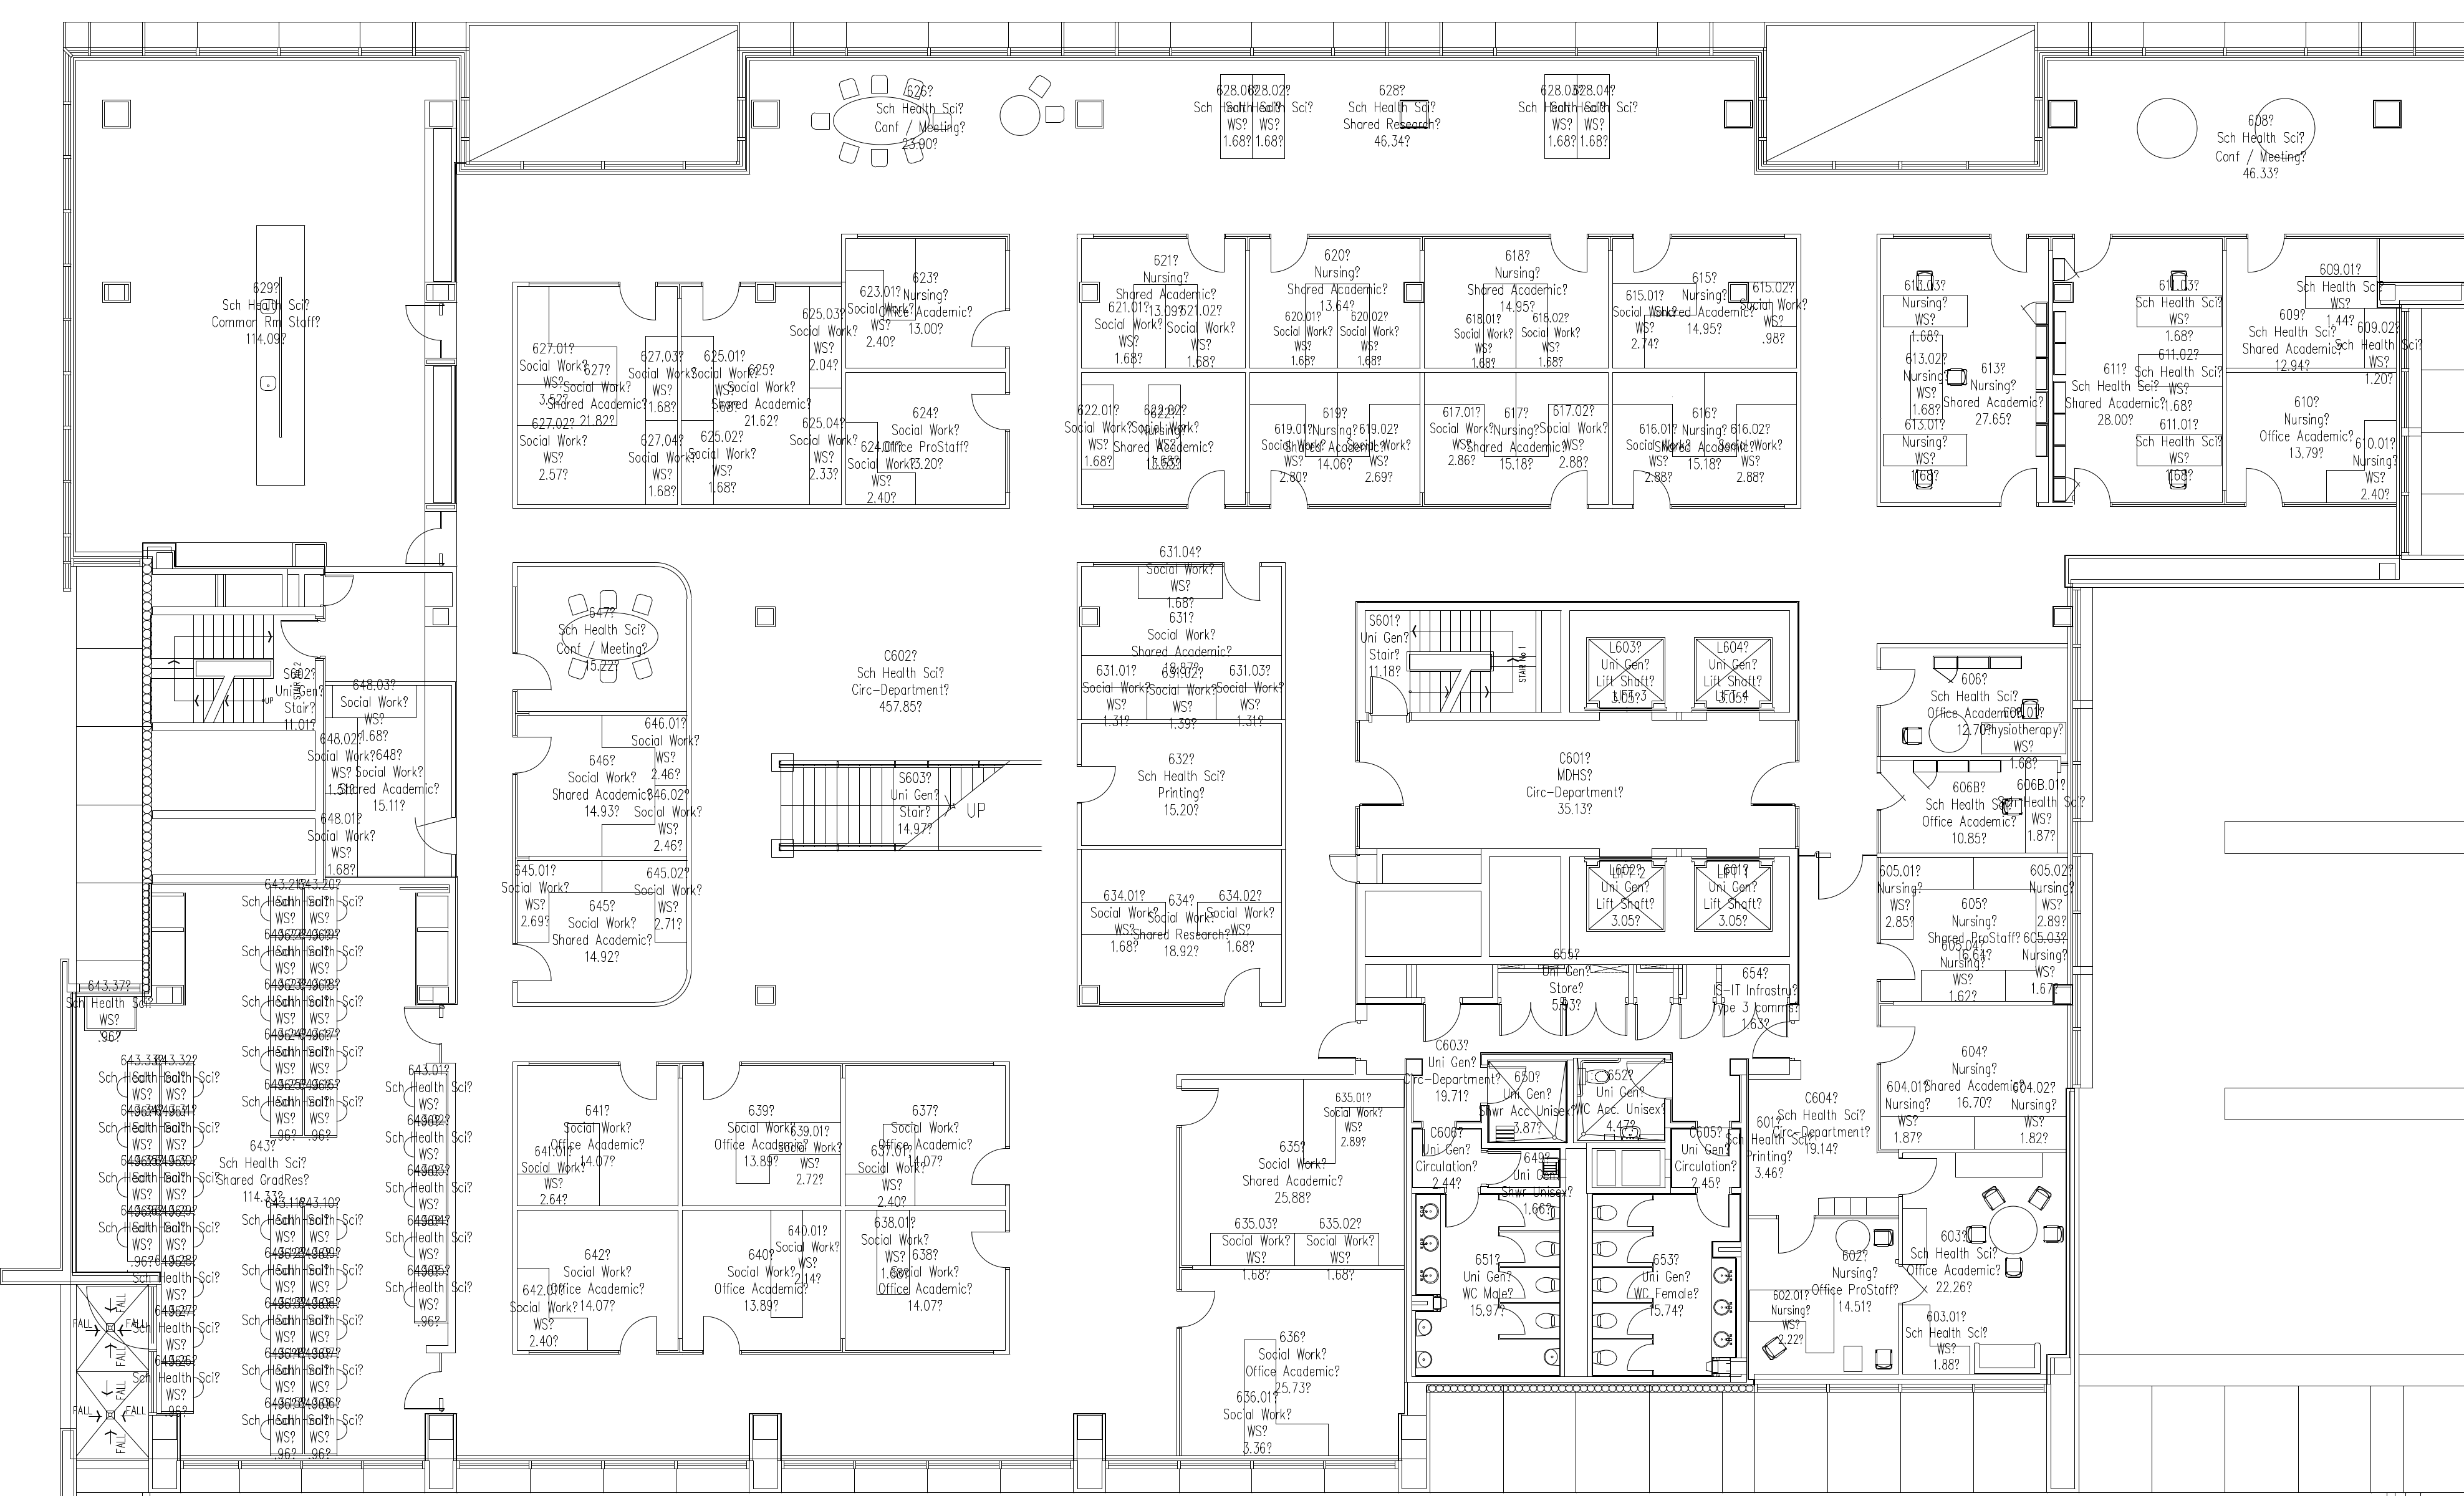text: (99, 1051, 225, 1419), (679, 292, 855, 496), (236, 1195, 371, 1459), (243, 873, 363, 1146), (517, 331, 683, 509), (380, 1067, 479, 1329), (2130, 271, 2226, 489), (2295, 241, 2424, 392), (1077, 658, 1299, 736), (1058, 392, 1218, 488), (1866, 1074, 2059, 1151), (1419, 396, 1607, 475), (1091, 287, 1237, 375), (1216, 1207, 1382, 1285), (1255, 410, 1412, 489), (1616, 414, 1785, 486), (1262, 290, 1408, 371), (1896, 276, 1950, 491), (1181, 77, 1313, 160), (1507, 77, 1646, 155), (1441, 301, 1593, 371), (206, 273, 329, 354), (706, 1239, 818, 1324), (1910, 764, 2022, 848), (1522, 737, 1626, 827), (2061, 348, 2163, 436), (2205, 109, 2318, 188), (1341, 79, 1452, 157), (1239, 1135, 1346, 1214), (850, 641, 954, 722), (549, 361, 644, 449), (1243, 1322, 1345, 1403), (209, 1133, 317, 1209), (554, 600, 655, 681), (866, 79, 970, 157), (2262, 389, 2358, 472), (2249, 297, 2341, 384), (544, 750, 651, 822), (1727, 269, 1818, 354), (1806, 1241, 1899, 1324), (1130, 889, 1234, 963), (549, 896, 655, 968), (1660, 262, 1755, 341), (878, 400, 972, 479), (1399, 1035, 1501, 1107), (2019, 859, 2070, 1003), (880, 1096, 975, 1174), (1121, 245, 1207, 329), (1294, 243, 1387, 320), (1943, 359, 2050, 426), (713, 1098, 801, 1179), (1781, 1086, 1880, 1158), (831, 431, 920, 510), (354, 744, 447, 820), (1925, 669, 2028, 737), (1107, 401, 1216, 465), (551, 1100, 651, 1169), (549, 1243, 648, 1311), (873, 1250, 982, 1311), (1494, 1068, 1573, 1153), (1573, 1065, 1668, 1135), (1705, 964, 1808, 1030), (1903, 1225, 2001, 1292), (1466, 248, 1570, 312), (1586, 855, 1668, 935), (885, 269, 975, 341), (1936, 1031, 2013, 1114), (1475, 405, 1565, 475), (725, 361, 811, 433), (1133, 750, 1225, 817), (620, 781, 702, 855), (1197, 884, 1281, 956), (62, 977, 155, 1042), (1665, 400, 1739, 480), (1144, 605, 1232, 672), (304, 808, 380, 885), (500, 1274, 579, 1348), (1903, 1309, 1998, 1371), (1214, 1389, 1295, 1461), (1932, 887, 2015, 957), (878, 760, 947, 845), (1621, 1251, 1709, 1316), (857, 1209, 933, 1285), (628, 861, 706, 935), (1697, 855, 1771, 933), (848, 1139, 928, 1211), (1668, 1123, 1744, 1197), (632, 704, 700, 785), (841, 287, 926, 352), (500, 855, 572, 931), (334, 679, 417, 744), (1753, 1274, 1818, 1357), (773, 1121, 848, 1192), (1693, 641, 1771, 709), (1146, 539, 1218, 611), (303, 729, 370, 806), (1603, 285, 1681, 352), (1874, 852, 1927, 949), (1408, 1118, 1477, 1192), (512, 1142, 586, 1209), (2013, 767, 2077, 845), (1984, 695, 2063, 757), (1294, 405, 1364, 473), (1505, 1148, 1573, 1218), (776, 1214, 843, 1285), (1355, 605, 1413, 685), (1927, 936, 1994, 1005), (1091, 885, 1155, 957), (1737, 1111, 1799, 1184), (1589, 639, 1656, 706), (271, 664, 331, 736), (1533, 940, 1593, 1010), (2351, 431, 2406, 505), (1322, 1086, 1383, 1151), (1454, 1250, 1514, 1316)
